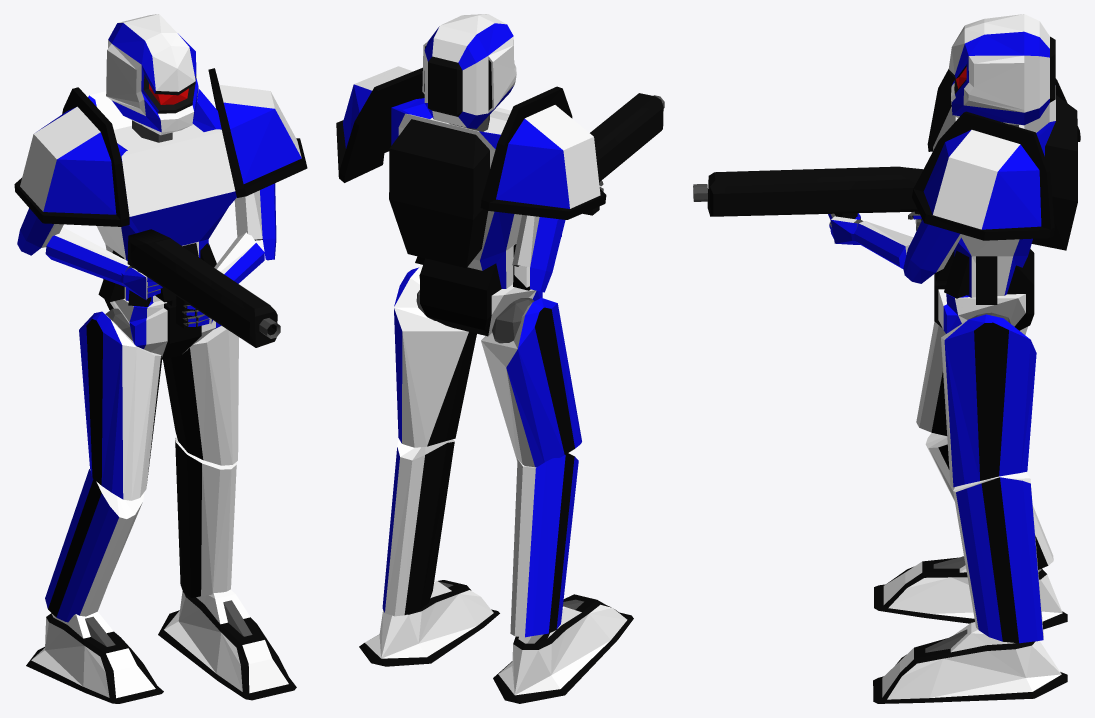
The model's file is robots_000003.obj.
The picture shows the model from 3 angles, left to right: view 1: azimuth 30°, elevation 25°; view 2: azimuth 150°, elevation 25°; view 3: azimuth 270°, elevation 25°; orthographic projection.
Visible parts, largest first — view 1: Chest_plate_Cube.004, R_Thigh_Cube.005, Cube.002_Cube.059, Head_base_Cube.022, R_Foot.002_Cube.035, R_Thigh.002_Cube.027, Cube_Cube.001, R_Shin_Cube.007, R_Shin.002_Cube.029, R_Foot_Cube, Cube_Cube.021, Pelvis_Cube.006 (+5 smaller); view 2: Chest_plate_Cube.004, Cube.002_Cube.059, R_Thigh_Cube.005, R_Shin_Cube.007, R_Thigh.002_Cube.027, R_Shin.002_Cube.029, Head_base_Cube.022, R_Foot_Cube, R_Foot.002_Cube.035, Cube_Cube.021, Pelvis_Cube.006, Cube_Cube.001 (+2 smaller); view 3: Cube_Cube.021, R_Thigh.002_Cube.027, R_Shin.002_Cube.029, R_Foot.002_Cube.035, Head_base_Cube.022, Cube_Cube.001, Chest_plate_Cube.004, R_Foot_Cube, Pelvis_Cube.006, L_Arm_Cube.014, R_Thigh_Cube.005, L_Forearm_Cube.020 (+3 smaller).
Boxes of the visible parts, <box> form: Chest_plate_Cube.004: <box>88,89,236,306</box>; R_Thigh_Cube.005: <box>79,311,161,500</box>; Cube.002_Cube.059: <box>14,87,129,226</box>; Head_base_Cube.022: <box>106,14,198,135</box>; R_Foot.002_Cube.035: <box>158,589,296,700</box>; R_Thigh.002_Cube.027: <box>163,325,238,465</box>; Cube_Cube.001: <box>127,229,280,347</box>; R_Shin_Cube.007: <box>45,468,144,622</box>; R_Shin.002_Cube.029: <box>175,437,236,597</box>; R_Foot_Cube: <box>26,611,163,703</box>; Cube_Cube.021: <box>208,68,307,197</box>; Pelvis_Cube.006: <box>103,279,221,359</box>; Chest_plate_Cube.004: <box>389,98,530,290</box>; Cube.002_Cube.059: <box>480,86,606,219</box>; R_Thigh_Cube.005: <box>481,298,581,467</box>; R_Shin_Cube.007: <box>510,453,578,637</box>; R_Thigh.002_Cube.027: <box>394,267,476,447</box>; R_Shin.002_Cube.029: <box>382,438,454,616</box>; Head_base_Cube.022: <box>422,14,516,128</box>; R_Foot_Cube: <box>493,594,633,703</box>; R_Foot.002_Cube.035: <box>359,580,499,666</box>; Cube_Cube.021: <box>336,66,424,182</box>; Pelvis_Cube.006: <box>419,258,542,336</box>; Cube_Cube.001: <box>583,93,664,215</box>; Cube_Cube.021: <box>912,111,1054,240</box>; R_Thigh.002_Cube.027: <box>941,314,1036,487</box>; R_Shin.002_Cube.029: <box>953,472,1043,643</box>; R_Foot.002_Cube.035: <box>873,622,1067,703</box>; Head_base_Cube.022: <box>948,14,1055,125</box>; Cube_Cube.001: <box>693,166,923,220</box>; Chest_plate_Cube.004: <box>933,85,1077,304</box>; R_Foot_Cube: <box>874,556,1067,629</box>; Pelvis_Cube.006: <box>934,249,1034,333</box>; L_Arm_Cube.014: <box>903,219,962,283</box>; R_Thigh_Cube.005: <box>916,321,1027,435</box>; L_Forearm_Cube.020: <box>854,221,913,268</box>.
Size of the model in its own units: 1.32 by 3.07 by 1.68.
